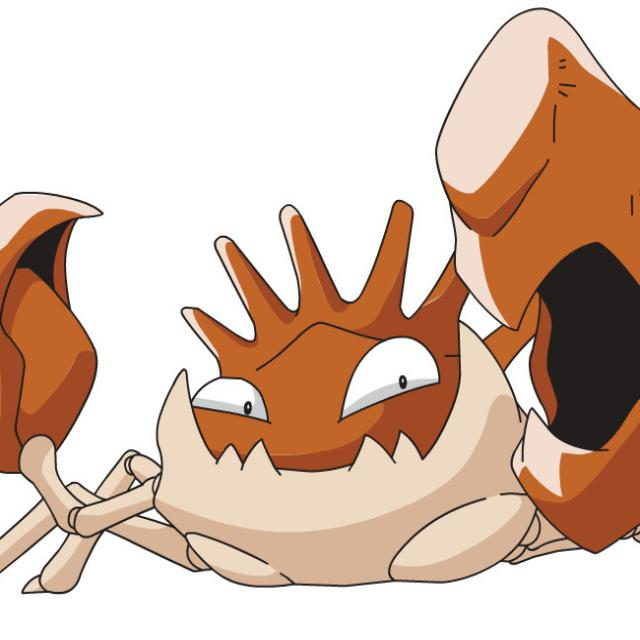Kingler: (0, 200, 640, 607)
